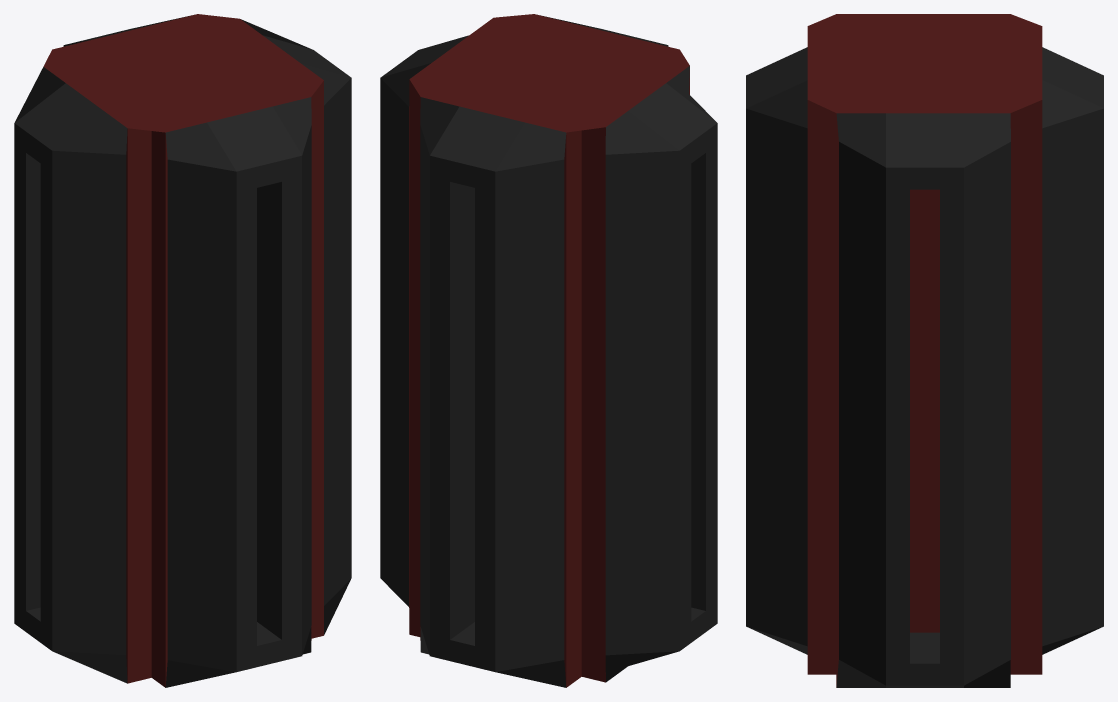
File: FenceFourWay.fbx
The picture shows the model from 3 angles, left to right: view 1: azimuth 30°, elevation 25°; view 2: azimuth 150°, elevation 25°; view 3: azimuth 270°, elevation 25°; orthographic projection. The views are drawn at different scales.
Parts seen in each view (by area): view 1: BarrierFourWay.003; view 2: BarrierFourWay.003; view 3: BarrierFourWay.003.
Boxes of the visible parts, x1,y1,x2,y2 form: BarrierFourWay.003: (14, 14, 351, 687); BarrierFourWay.003: (380, 14, 717, 687); BarrierFourWay.003: (746, 14, 1103, 687).
Bounding box in the file's own units: 305 × 540 × 305.
